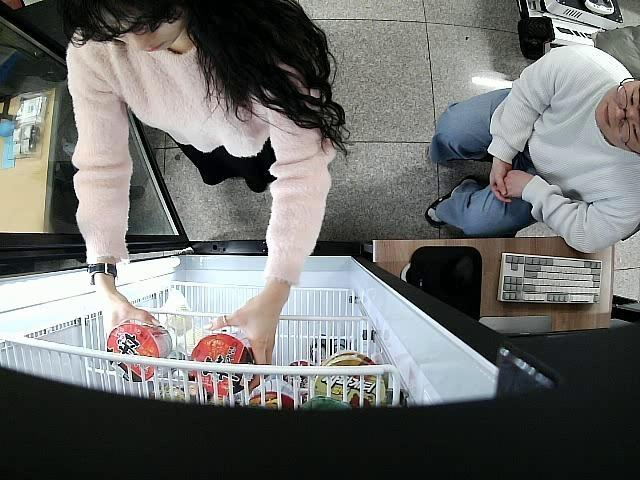02_shinRamen_S: (192, 330, 254, 397), (108, 324, 172, 382)
